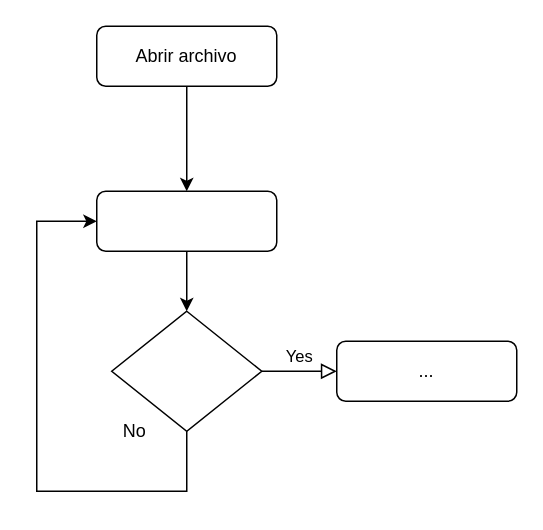
Image size: 543x530. Some labels were removed from this diagram. The box of each missing label's shape, as (x1, y1, x2, y2) in pixels:
Clave = correcta?: (110, 310, 262, 431)
Solicitar clave: (95, 190, 277, 251)
